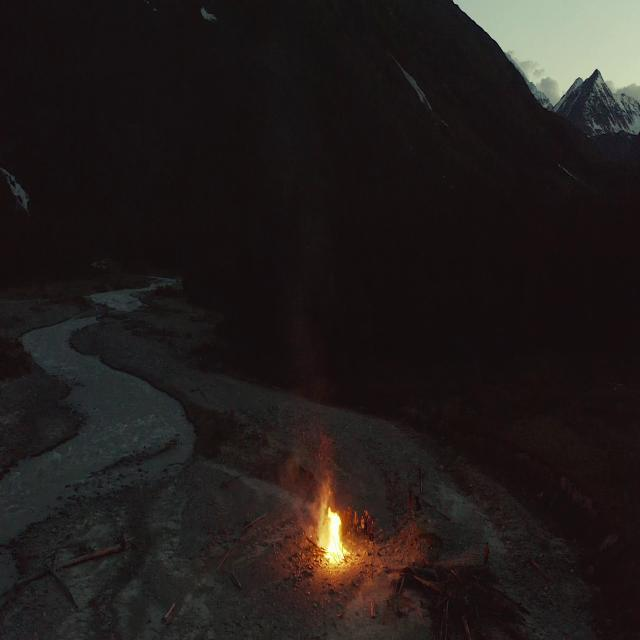Fire: (318, 494, 348, 570)
